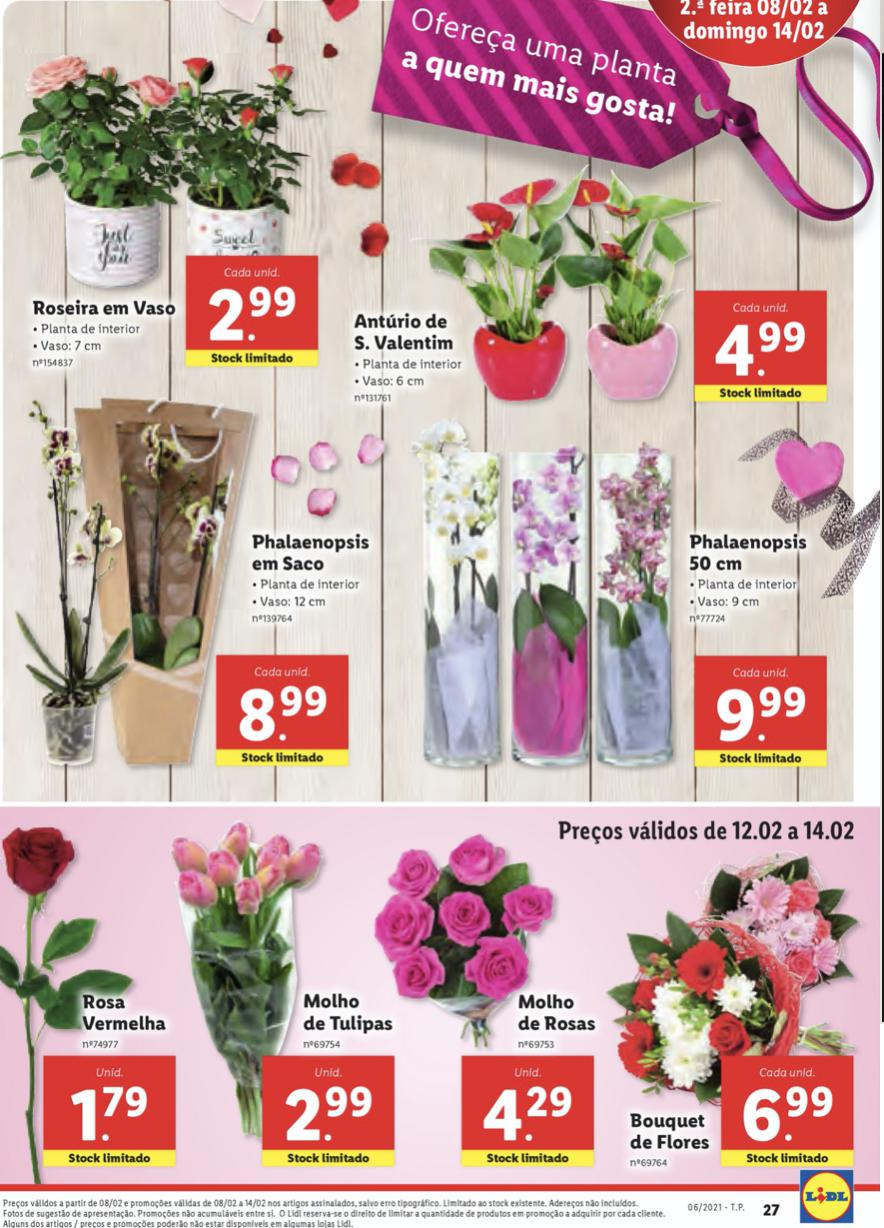name: (687, 526, 810, 576), (249, 530, 372, 574), (351, 311, 461, 357), (622, 1104, 716, 1157), (76, 985, 170, 1037), (299, 988, 396, 1037), (513, 988, 601, 1037), (26, 293, 178, 320)
price: (231, 681, 335, 748), (732, 1081, 838, 1144), (711, 316, 814, 378), (475, 1082, 576, 1144), (208, 279, 302, 344), (716, 682, 811, 741), (278, 1084, 372, 1143), (69, 1078, 152, 1141)
product: (398, 429, 842, 785), (11, 390, 375, 779), (329, 161, 852, 422), (16, 49, 329, 376), (608, 841, 867, 1188), (367, 820, 608, 1188), (178, 828, 396, 1172), (1, 819, 181, 1191)
